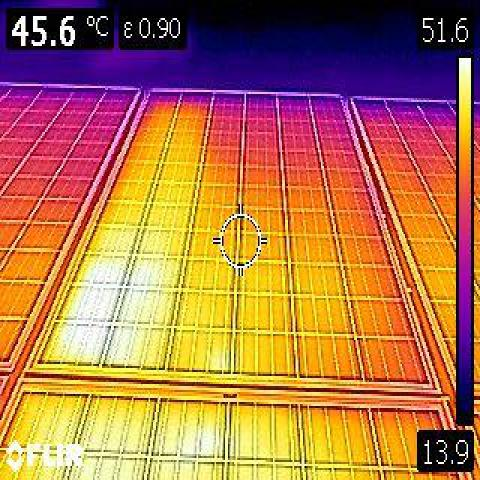fault: (33, 90, 216, 367)
